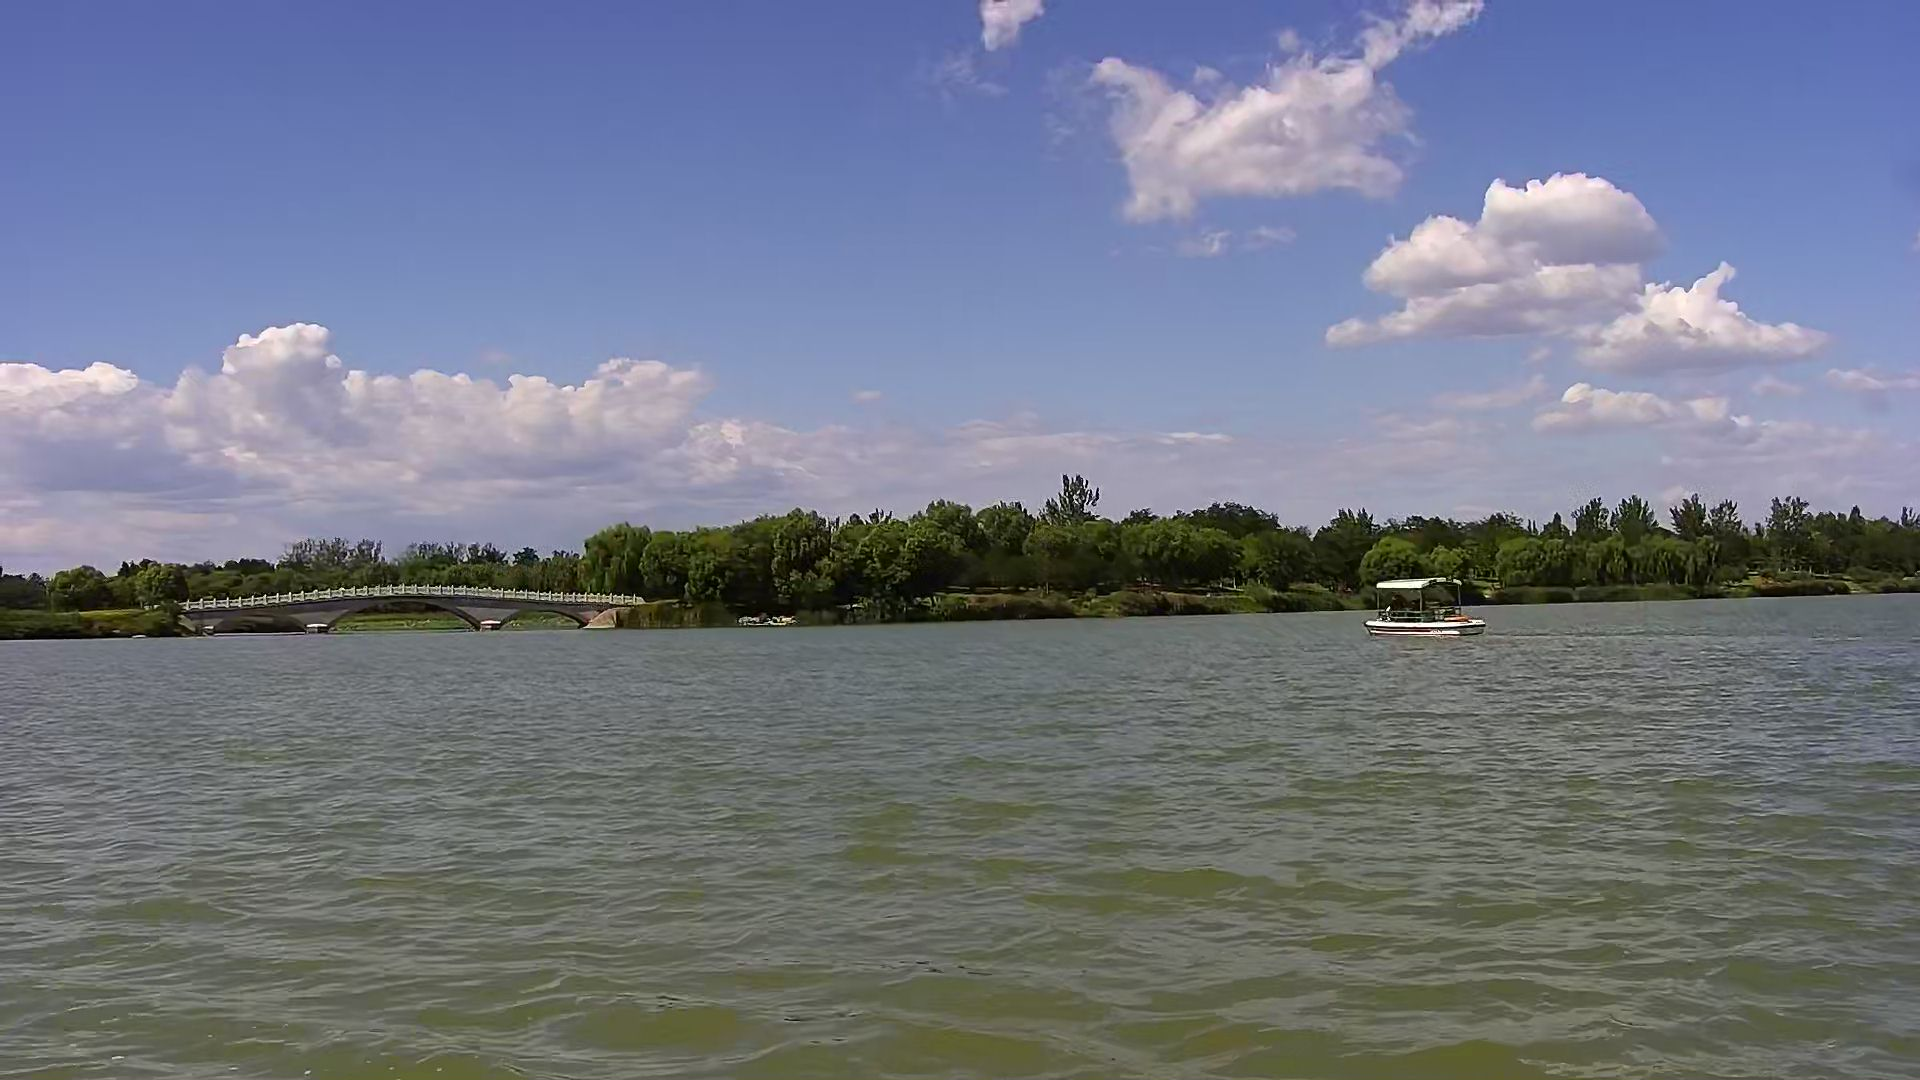boat: (1367, 579, 1482, 640)
bridge: (181, 585, 618, 638)
